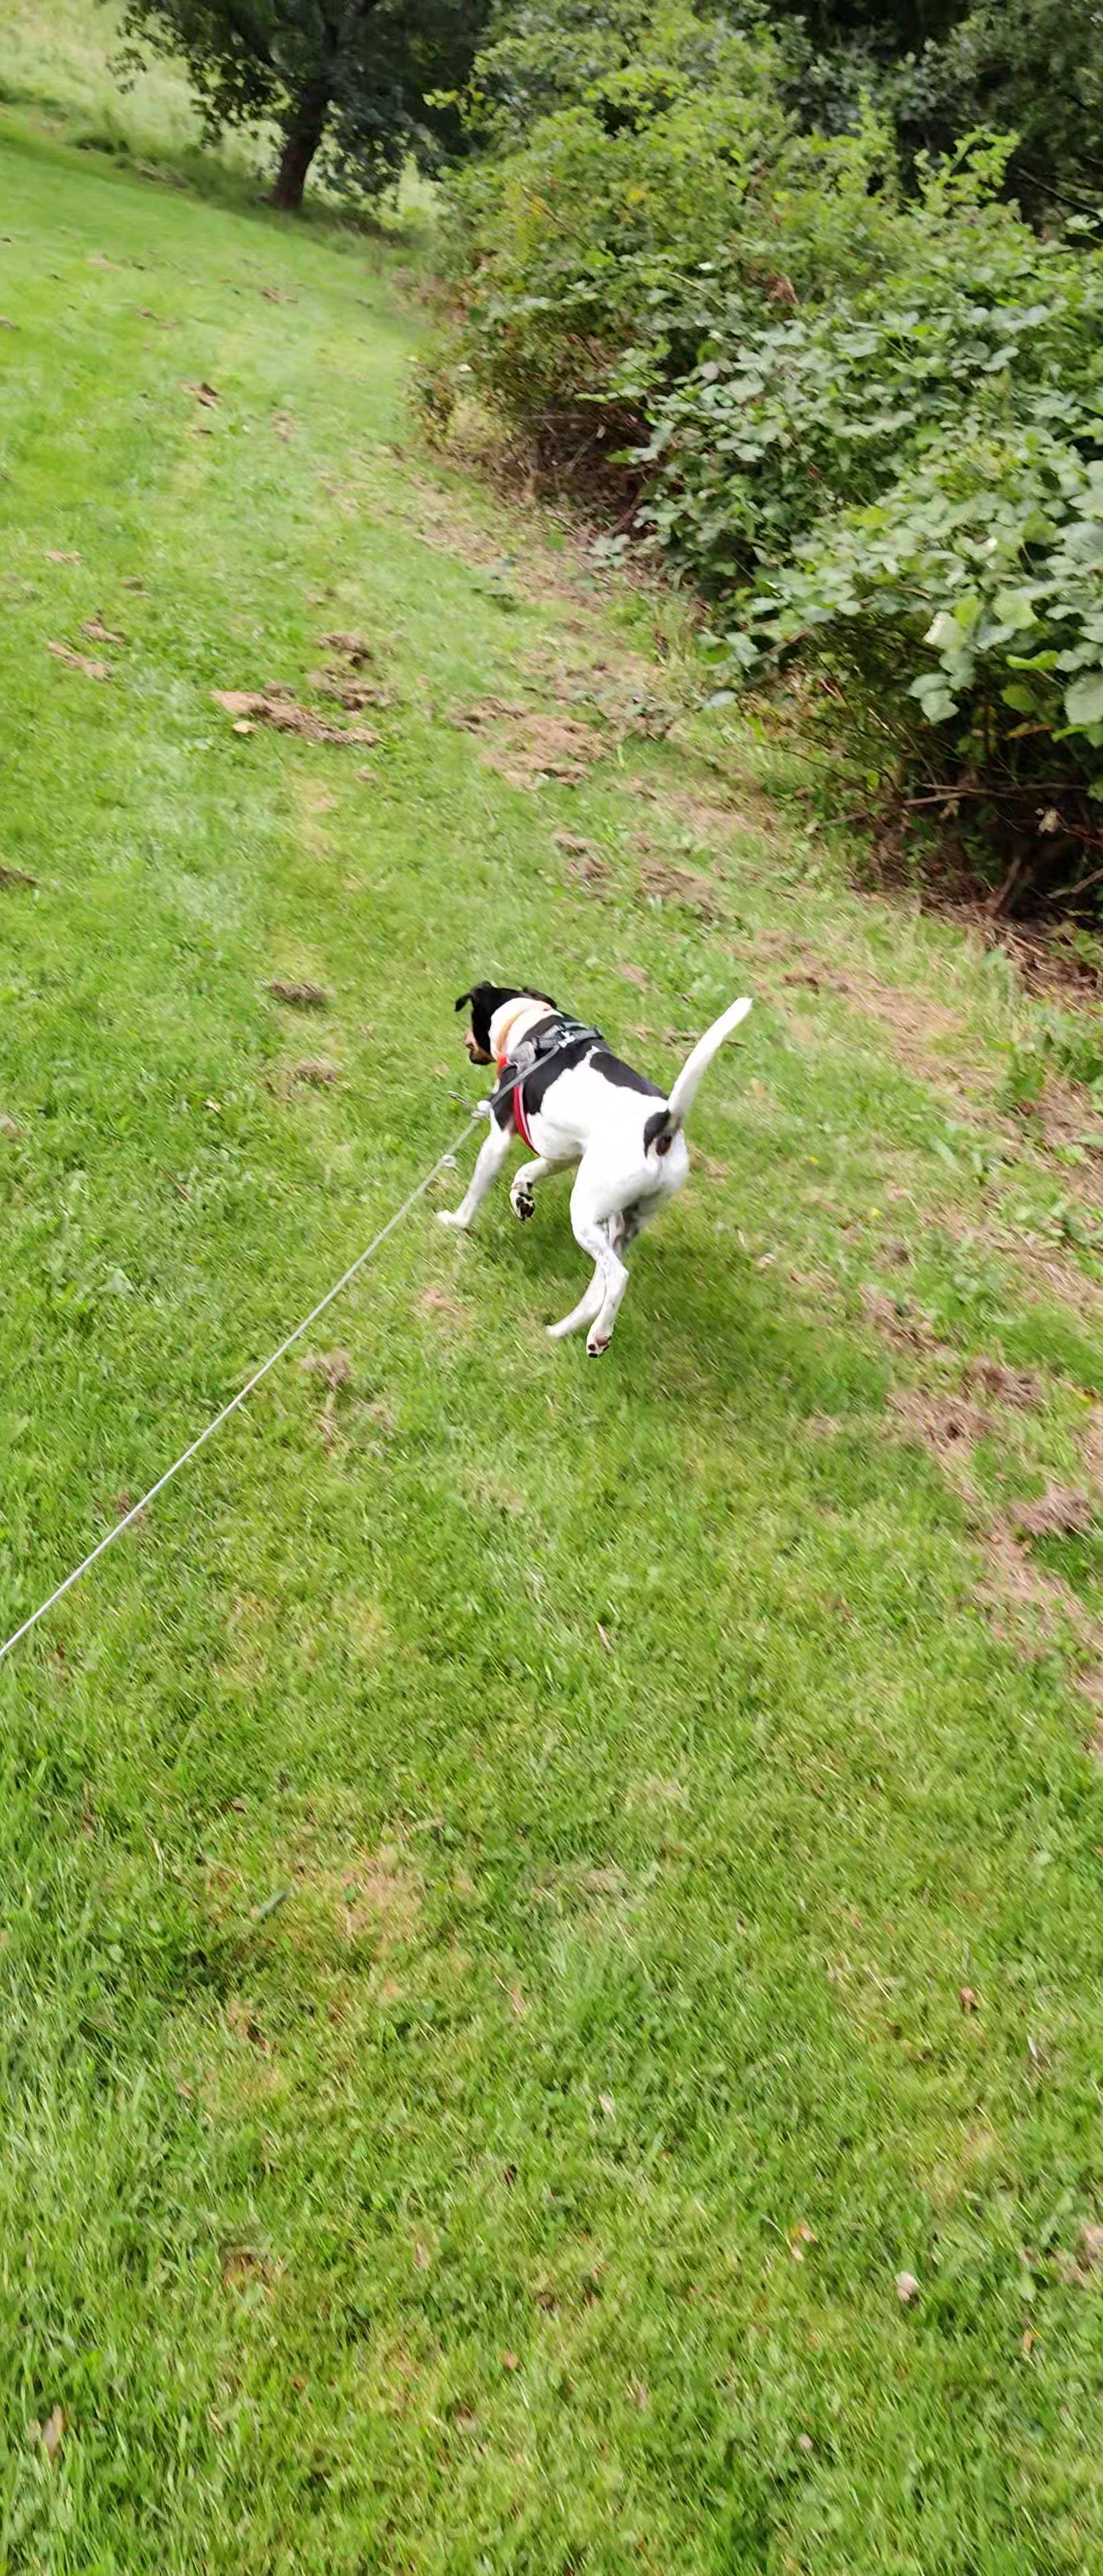Dog: (429, 936, 771, 1367)
